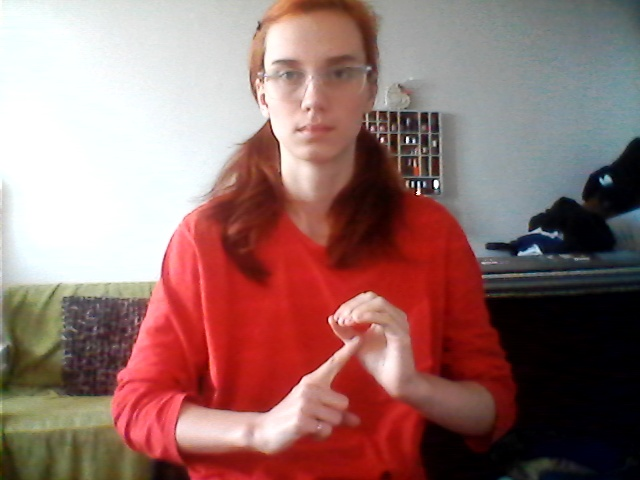q: (256, 287, 435, 467)
